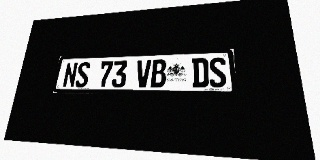3: (111, 60, 127, 87)
7: (97, 61, 114, 87)
B: (151, 59, 167, 87)
D: (192, 58, 209, 87)
N: (62, 62, 78, 87)
S: (209, 57, 227, 87), (75, 62, 91, 87)
V: (135, 60, 151, 87)
